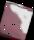dent: (0, 1, 34, 40)
